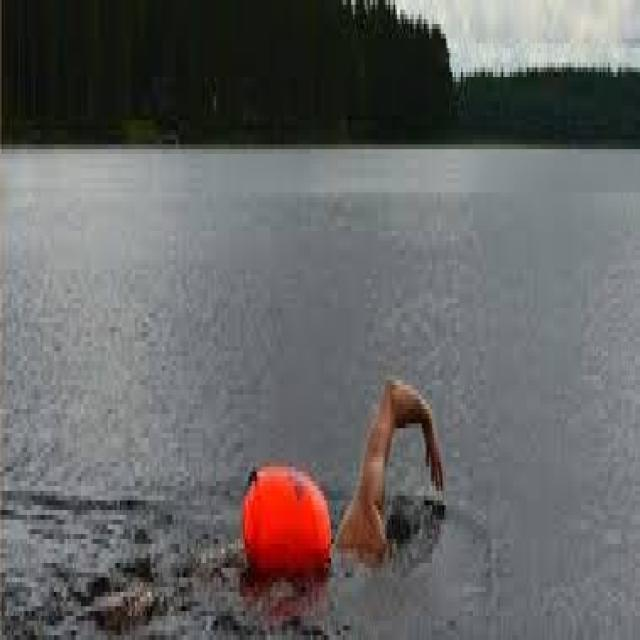marque: (238, 426, 338, 603)
